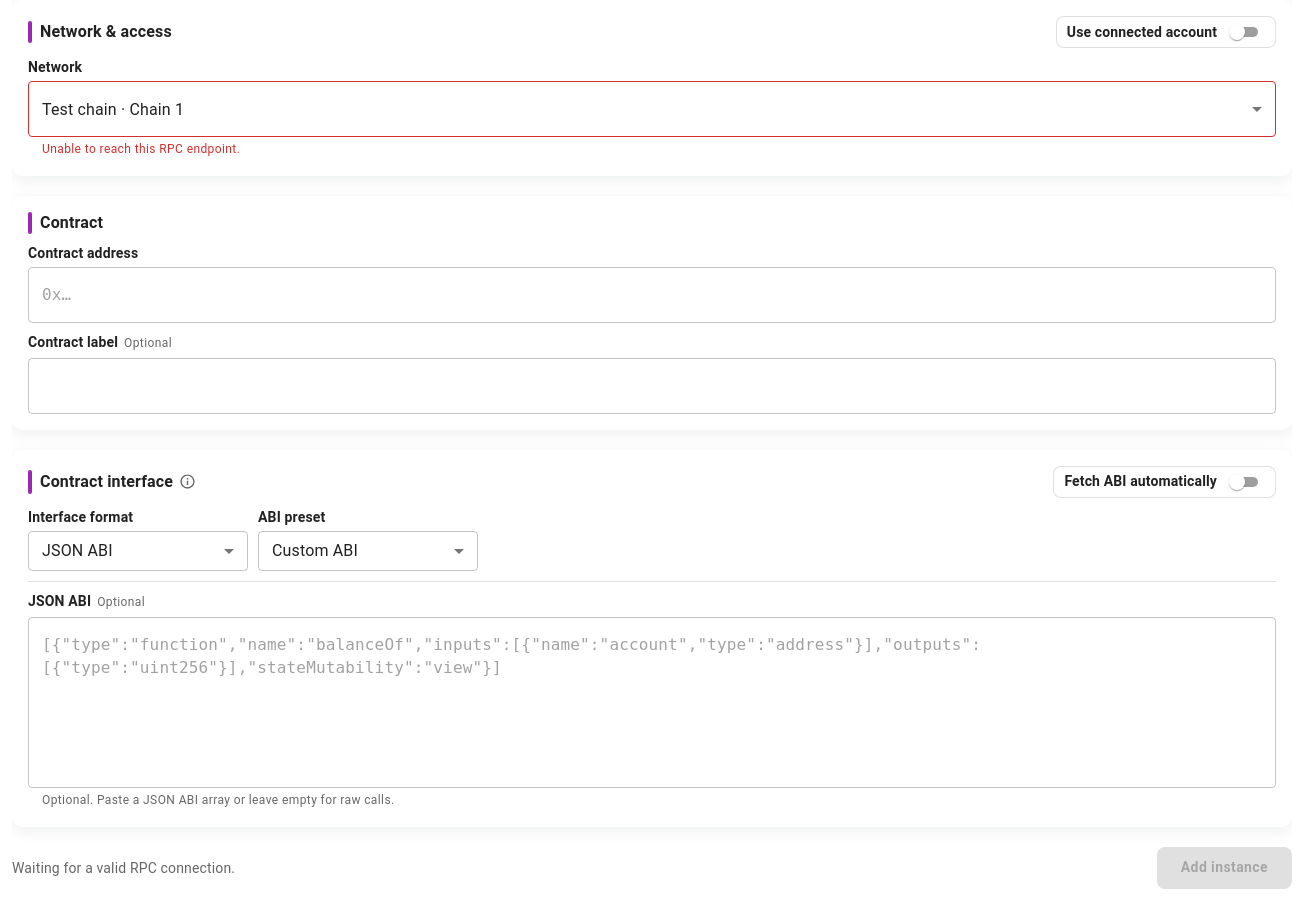
Test: ContractManager › puts network selection first and identifies predefined chains
The width and height of the screenshot is (1304, 900).
Note: The compact collapsed display must not hide the full chain identity.
Step 1. Press the mouse on the dropdown named "Network" → (113, 109), box x1=42 y1=100 x2=184 y2=119
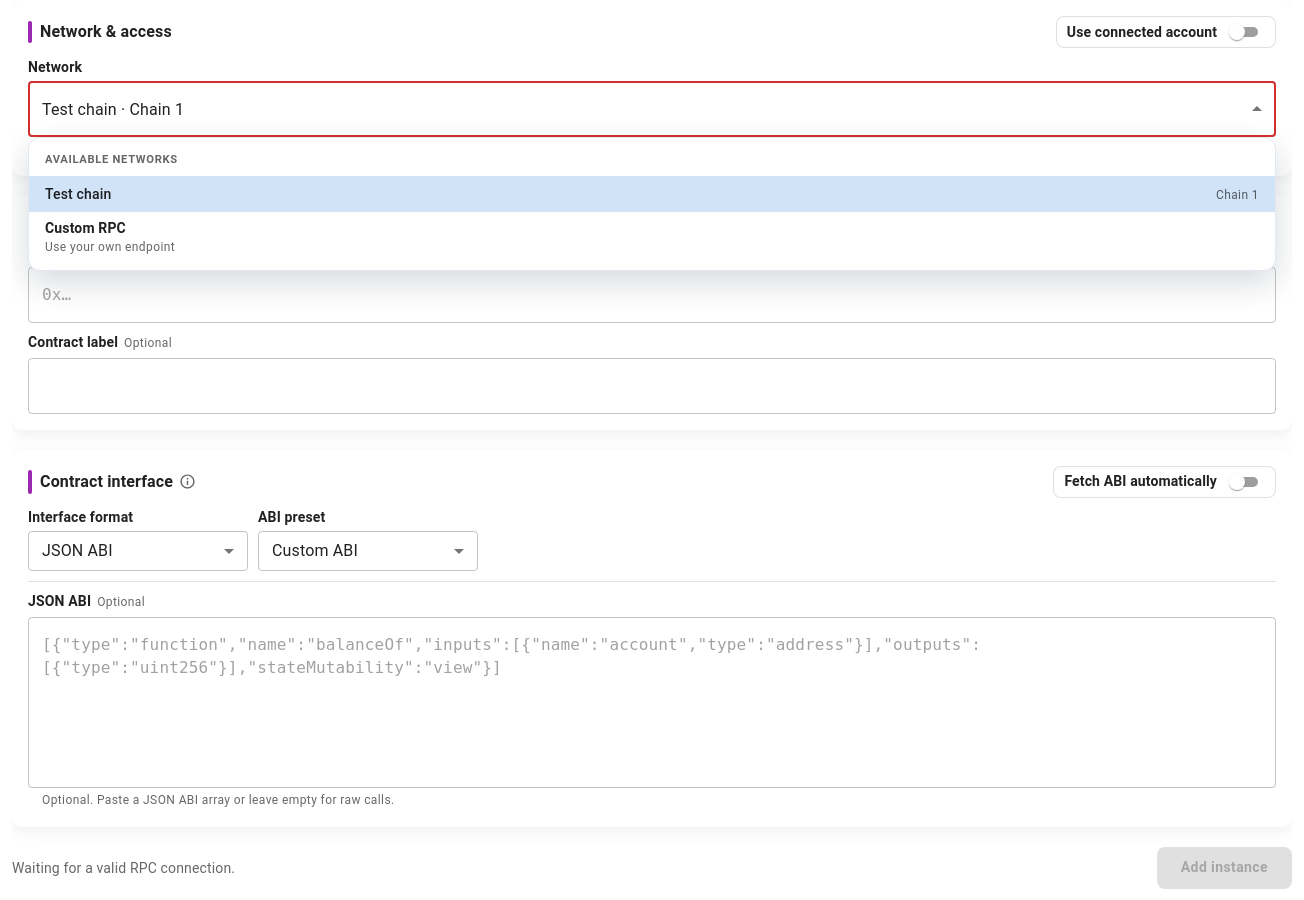
expect the option "Test chain Chain 1" is shown: met, box x1=29 y1=176 x2=1275 y2=212
